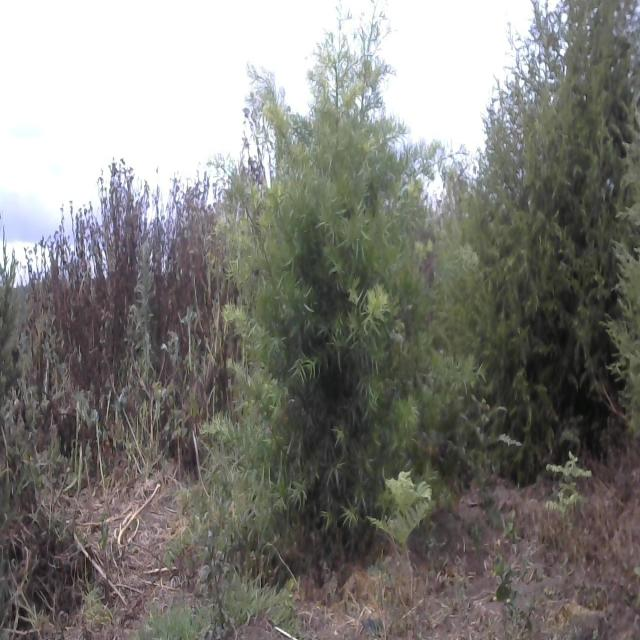Juniperus procesera: (472, 0, 640, 442)
Podocarpus falcatus: (228, 0, 454, 571)
